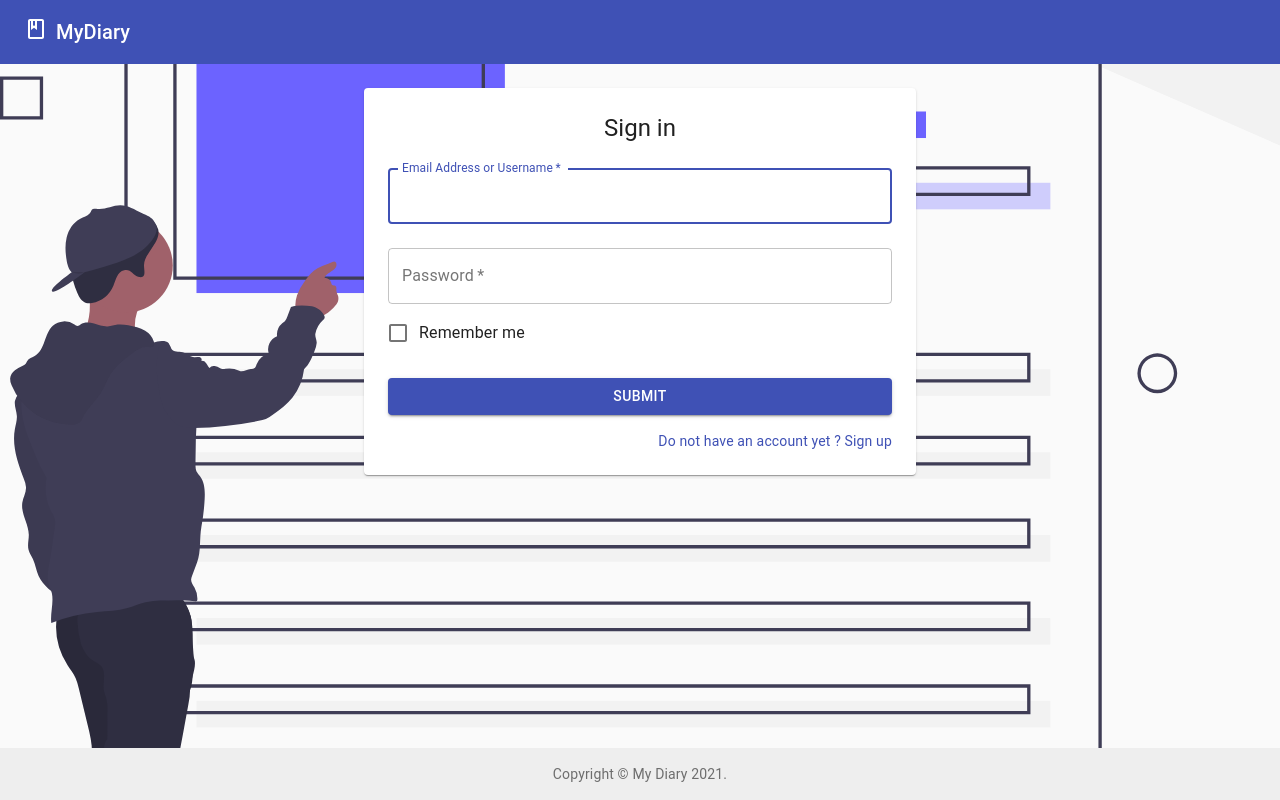
Scenario: Signin page should render › does not navigate to dashboard when login is not successful if user is not signed up
The image size is (1280, 800).
Type "Obiedere" into the field labelled "Email Address or Username *" at (640, 196), box [388, 168, 892, 224]
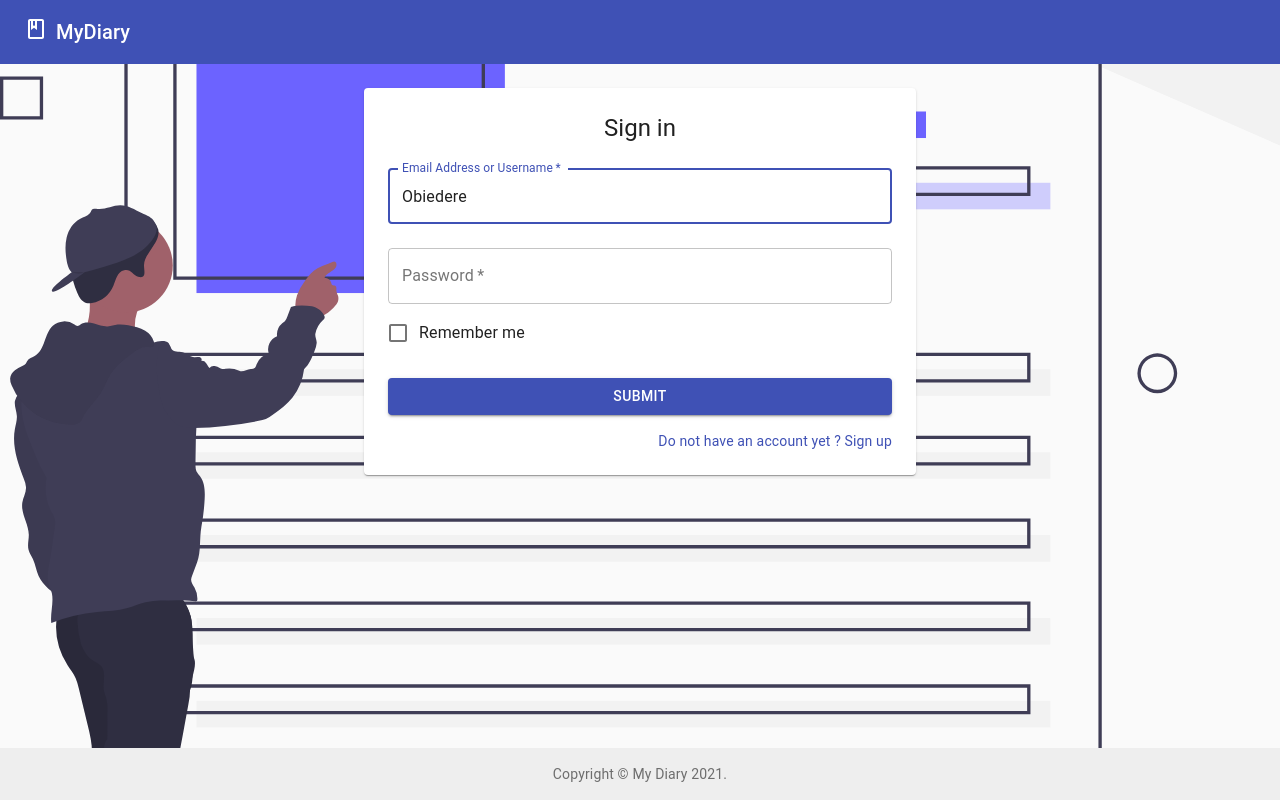
Type "sate234" into the password field labelled "Password *" at (640, 276), box [388, 248, 892, 304]
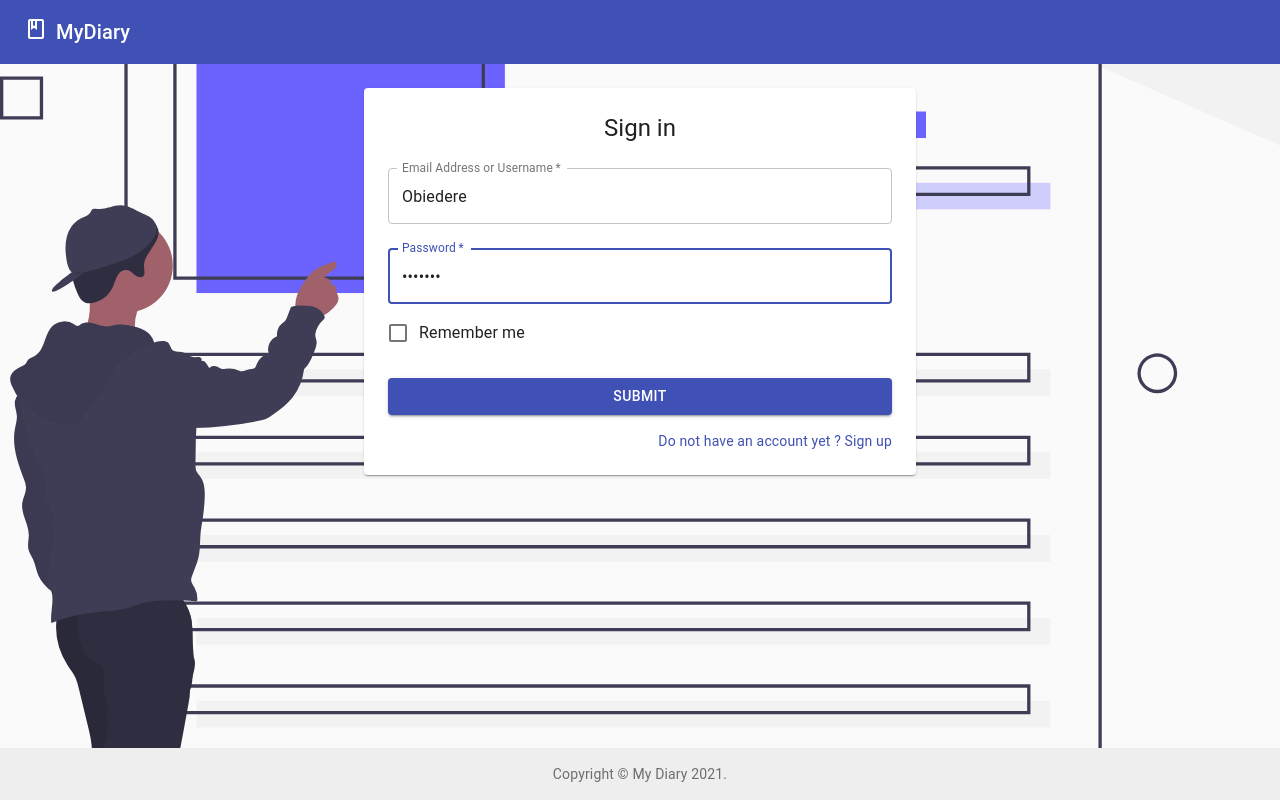
Click the button "Submit" at (640, 396), box [388, 378, 892, 414]
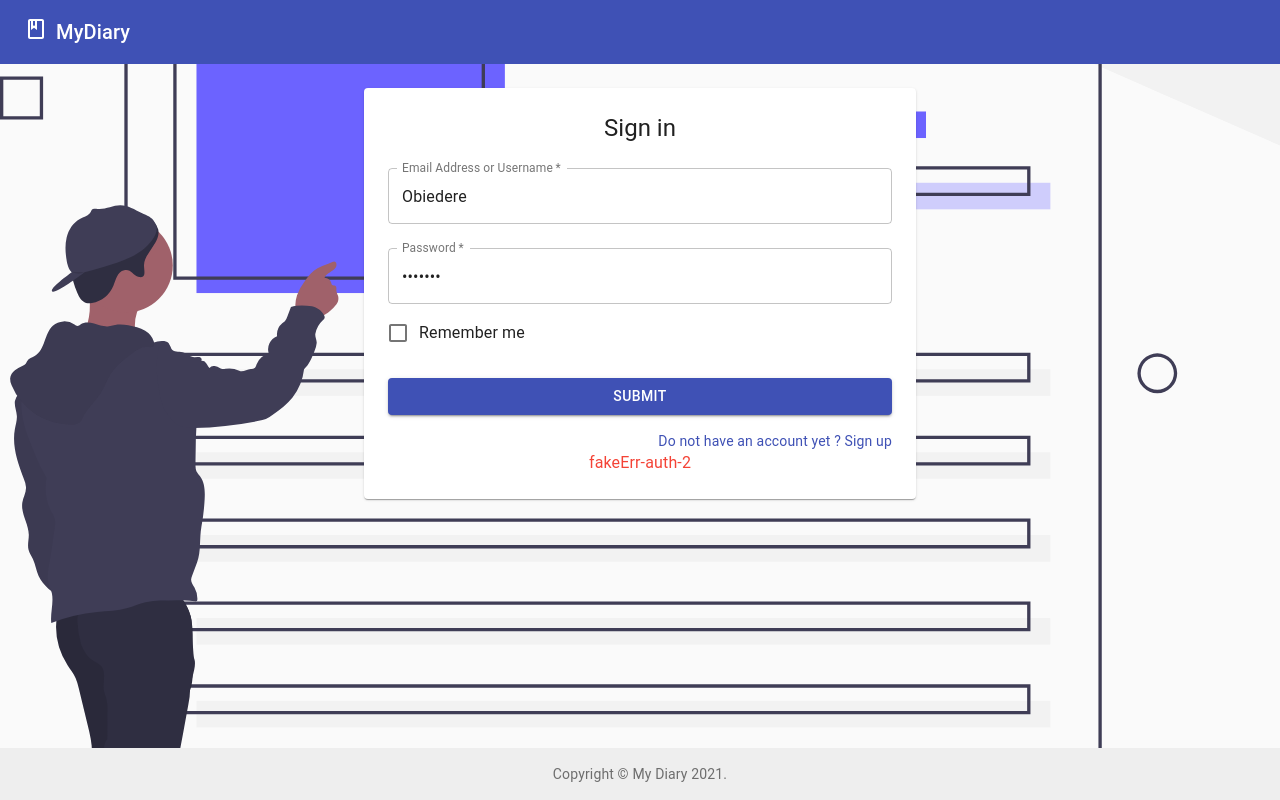
Check: the text "fakeErr-auth-2" is shown, box [589, 450, 691, 474]
